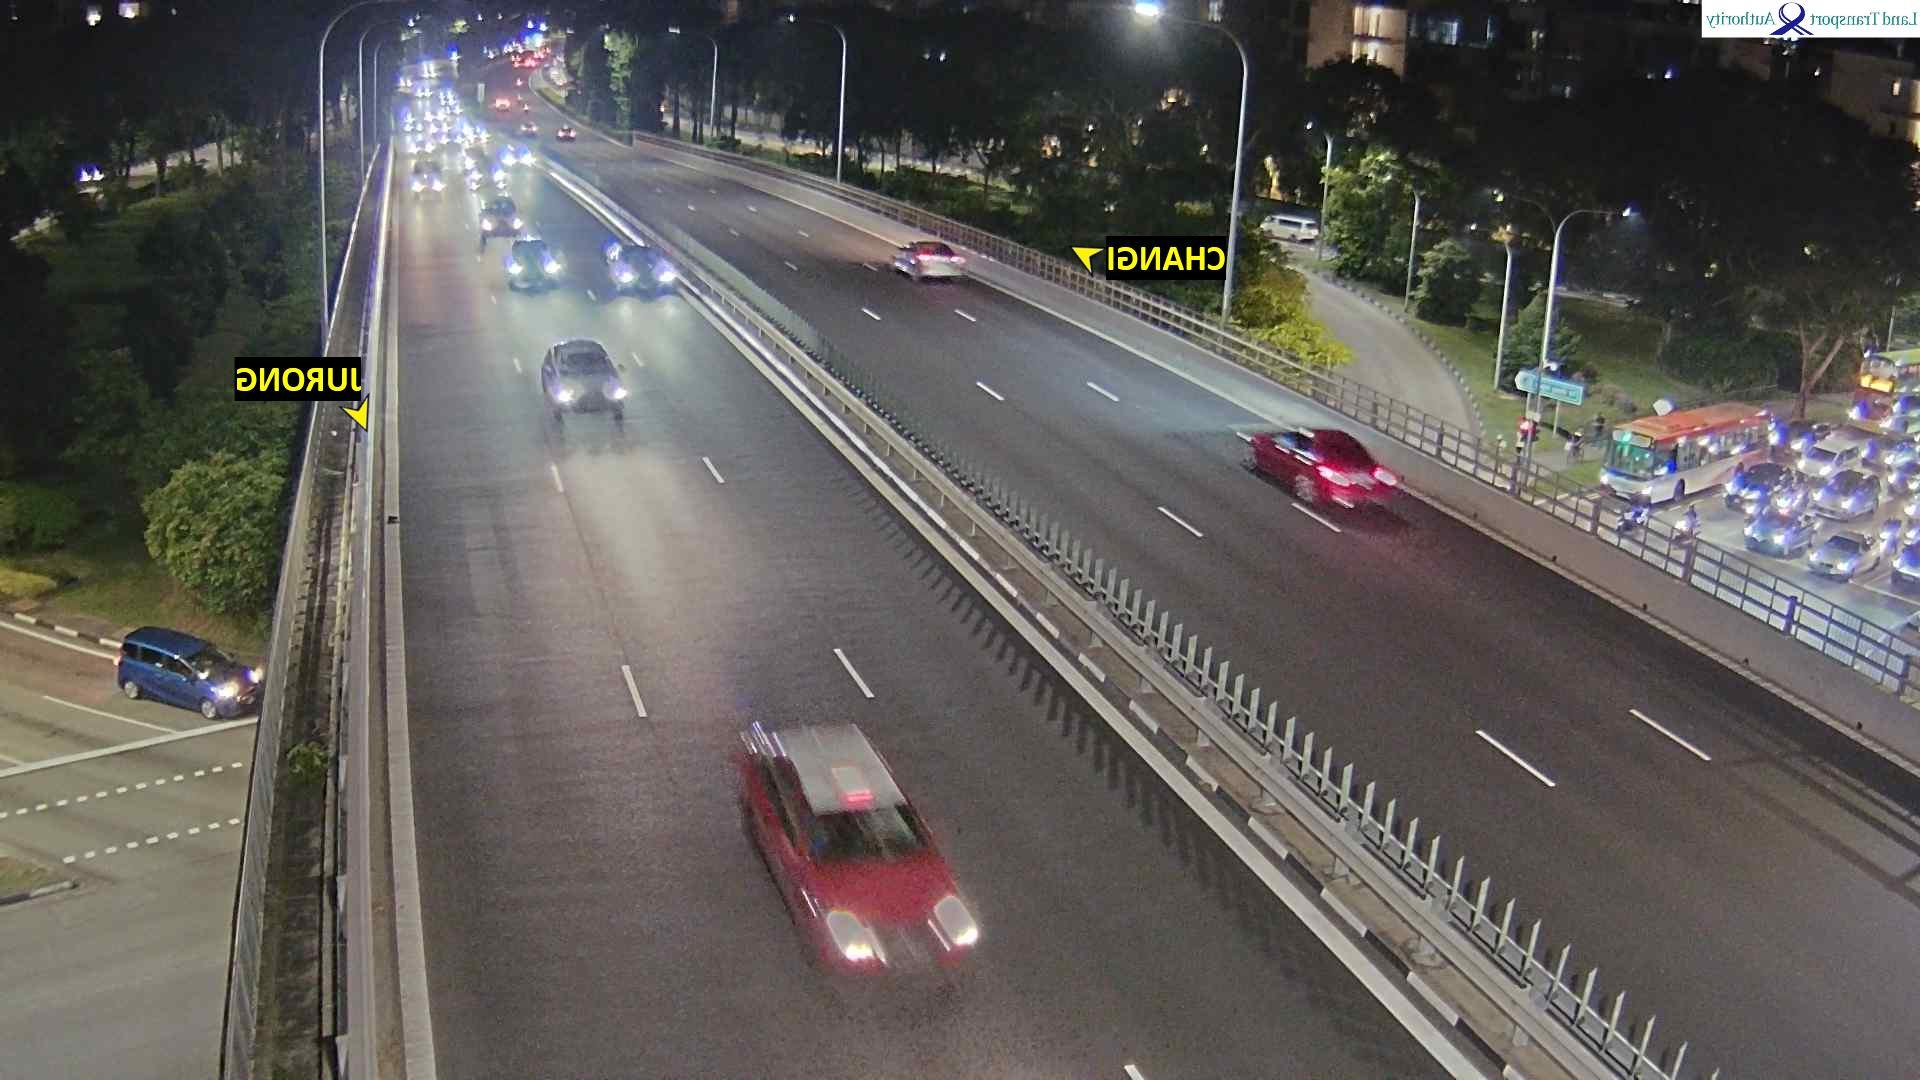incoming: (770, 789, 988, 994), (539, 343, 633, 431), (605, 241, 676, 297), (504, 237, 566, 293), (475, 196, 525, 245), (406, 160, 447, 198), (467, 157, 509, 193), (498, 141, 535, 167)
